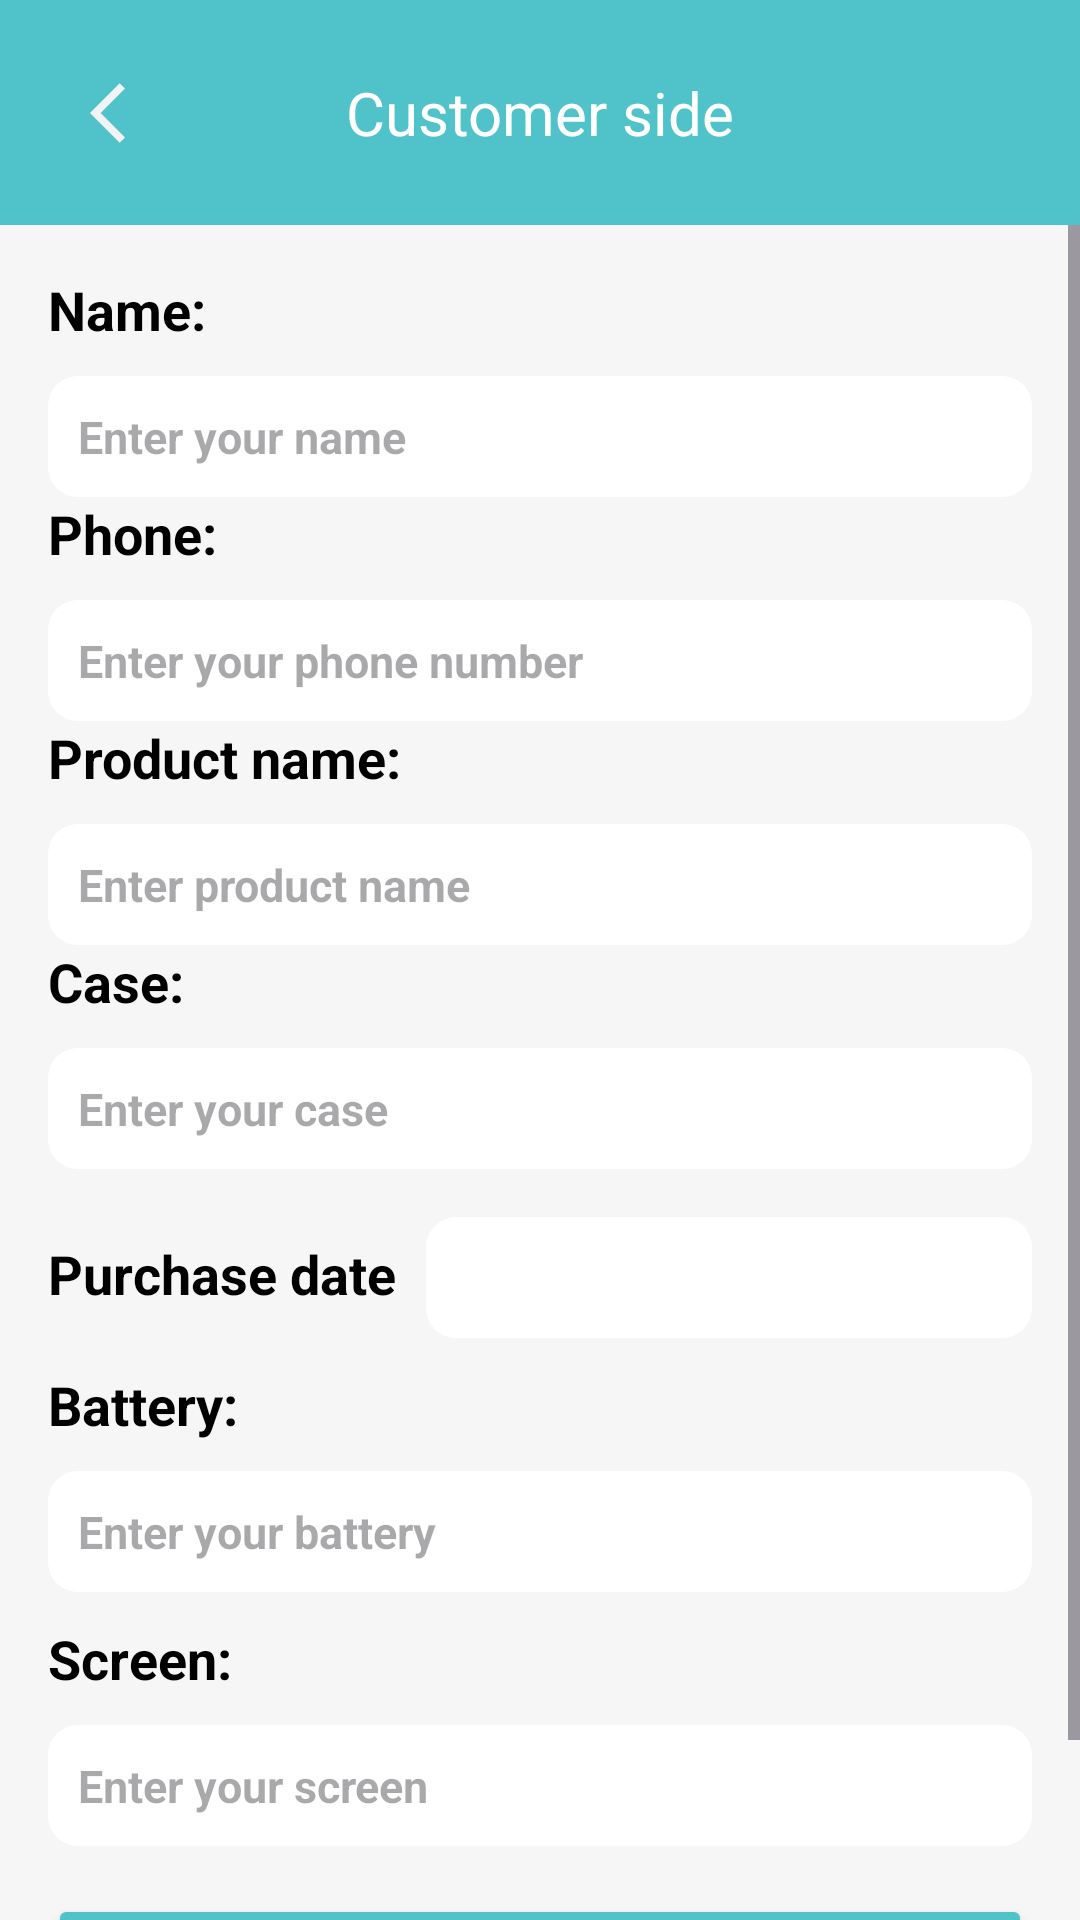

Icons on this 1080x1920 Android screen, each with its box as (x1, y1, x2, y2):
arrow left: (90, 83, 125, 143)
